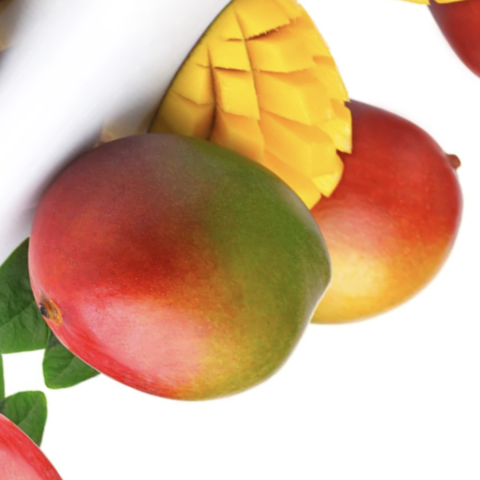mango: (0, 54, 388, 480), (160, 27, 480, 400)
